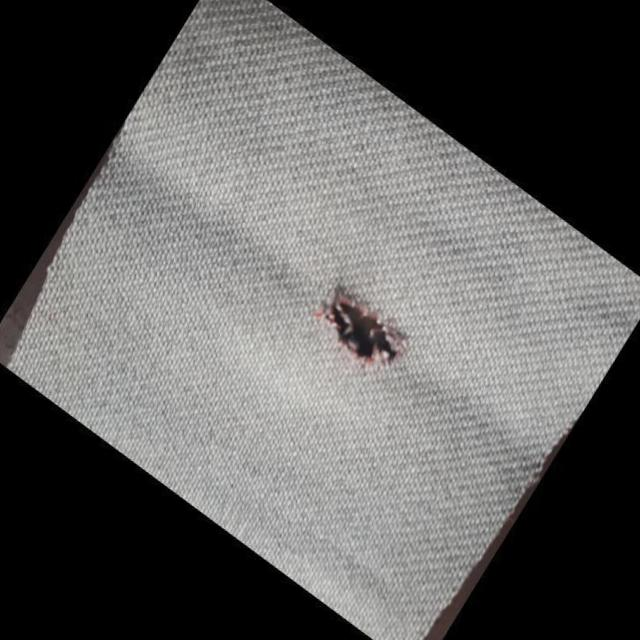hole: (311, 276, 417, 381)
